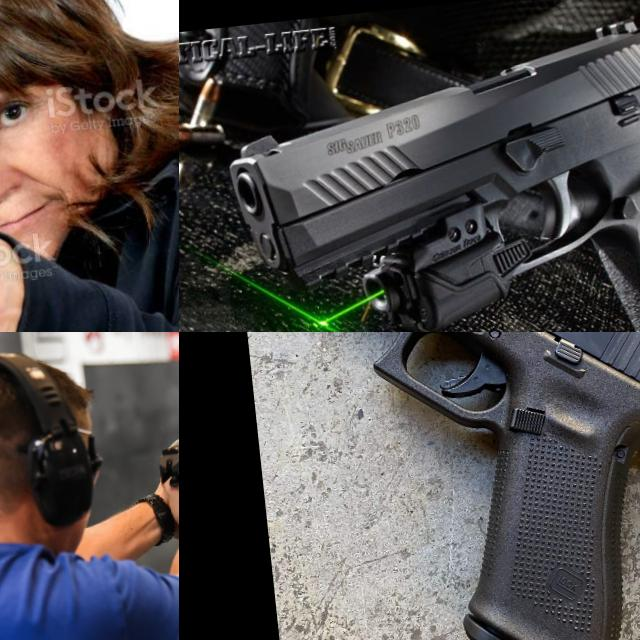handgun: (215, 1, 640, 332), (248, 332, 640, 640), (0, 151, 50, 315), (149, 396, 179, 490)
